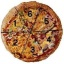pizza: (3, 1, 60, 60)
